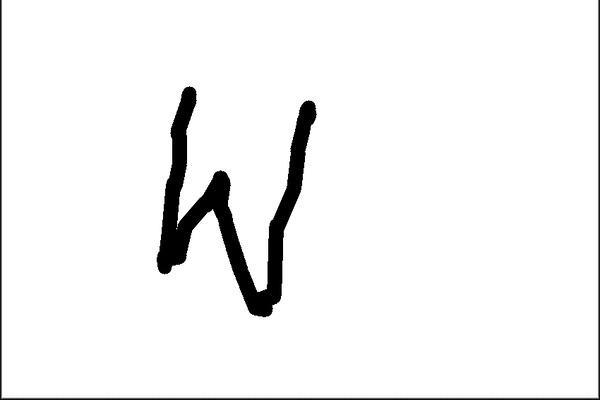w: (131, 69, 328, 336)
